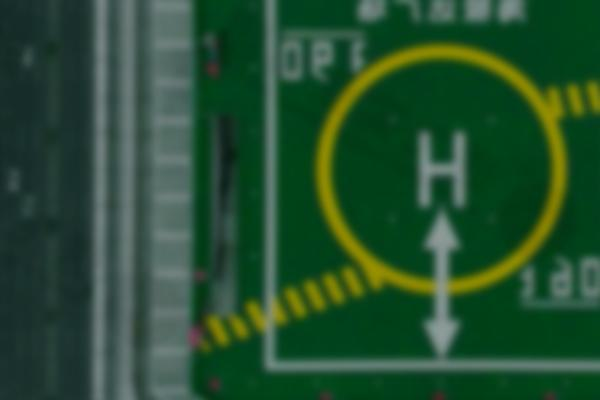Apron: (309, 37, 576, 292)
